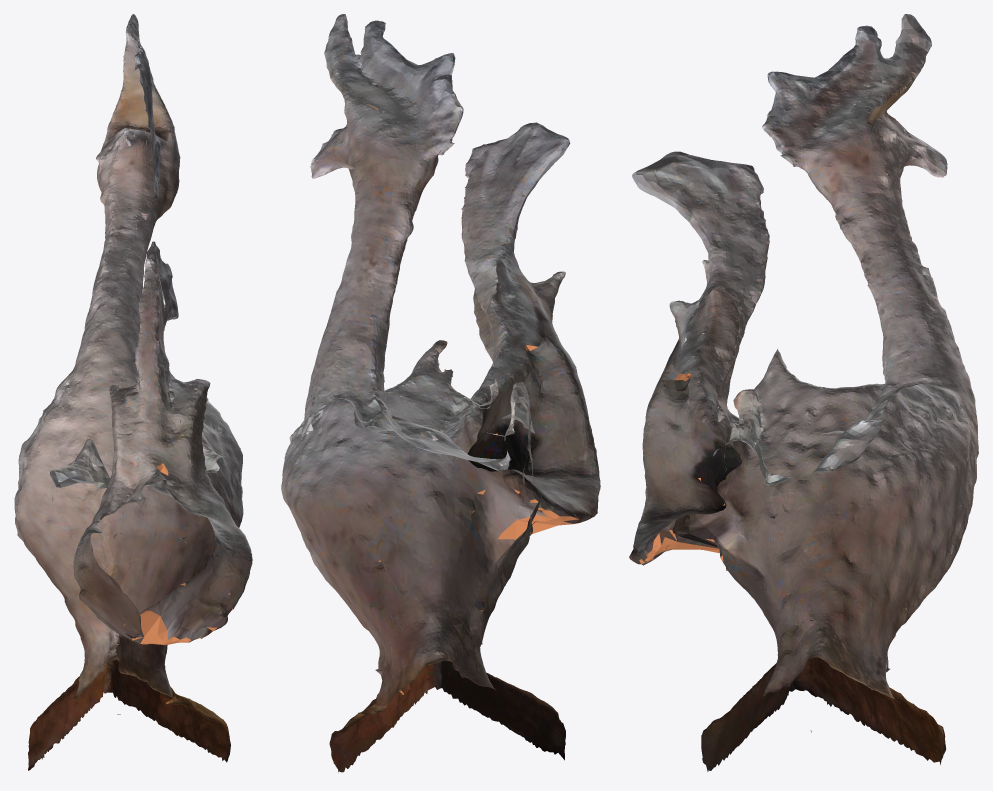
Rendered from anka-v-yeniden-varolus.glb.
3 views of the same model, side by side, from view 1: azimuth 30°, elevation 25°; view 2: azimuth 150°, elevation 25°; view 3: azimuth 270°, elevation 25° (orthographic). The views are drawn at different scales.
Parts seen in each view (by area): view 1: anka_doku2.obj; view 2: anka_doku2.obj; view 3: anka_doku2.obj.
Boxes of the visible parts, bbox=[...] form: anka_doku2.obj: bbox=[14, 14, 252, 770]; anka_doku2.obj: bbox=[281, 14, 600, 772]; anka_doku2.obj: bbox=[629, 14, 978, 771].
Size of the model in its own units: 0.1817 by 0.55 by 0.2293.
1 material, 1 textured.
